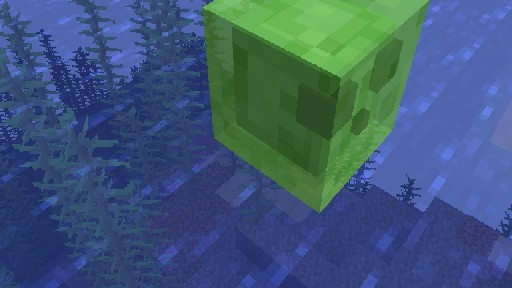slime: (201, 0, 429, 213)
